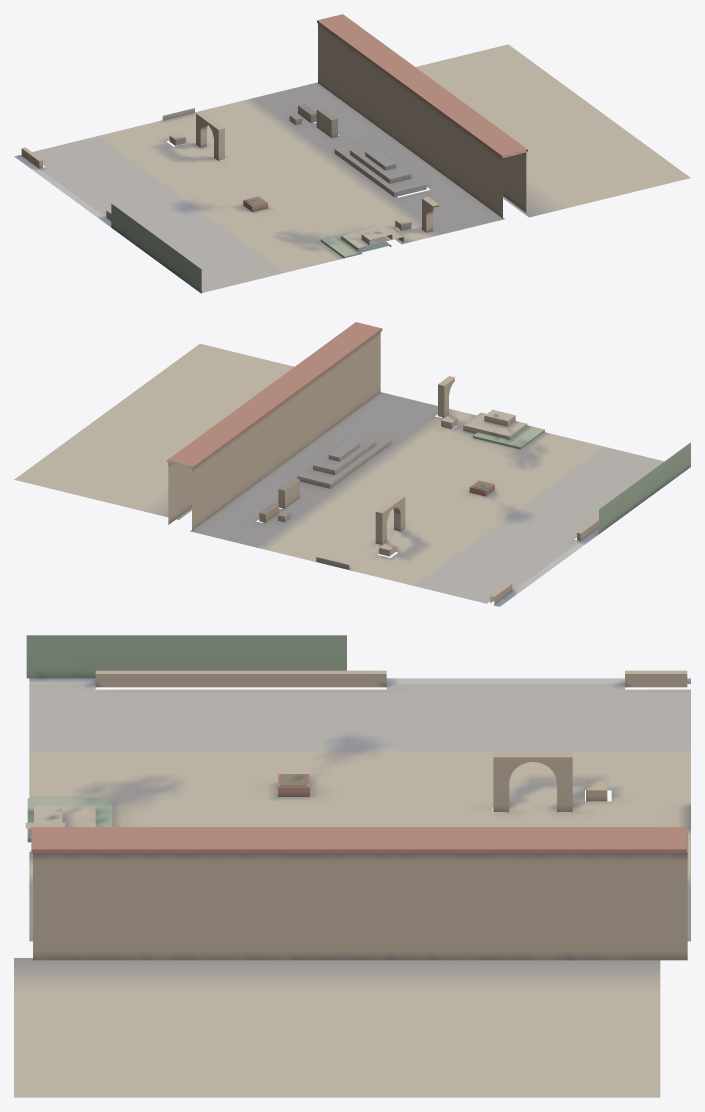
The picture shows the model from 3 angles, top to bottom: view 1: azimuth 30°, elevation 25°; view 2: azimuth 150°, elevation 25°; view 3: azimuth 270°, elevation 25°; orthographic projection. The views are drawn at different scales.
Parts seen in each view (by area): view 1: t; view 2: t; view 3: t.
Part boxes in pixels (x1,y1,x2,y2): t: (14, 14, 690, 293); t: (14, 322, 690, 606); t: (14, 635, 690, 1097).
Size of the model in its own units: 75 by 9.35 by 51.16.
